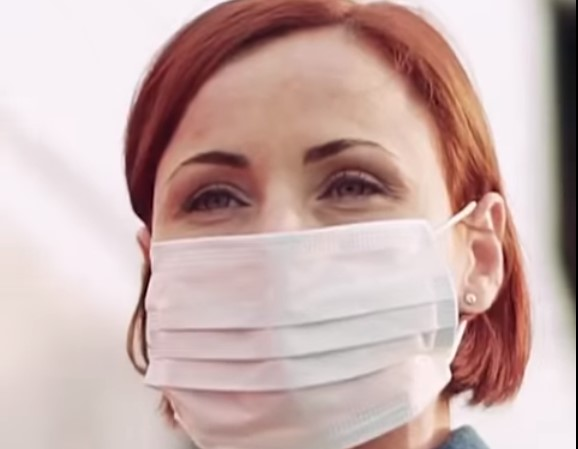face_with_mask: (121, 4, 510, 445)
